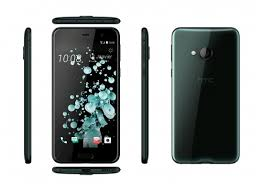htc: (166, 24, 242, 167)
